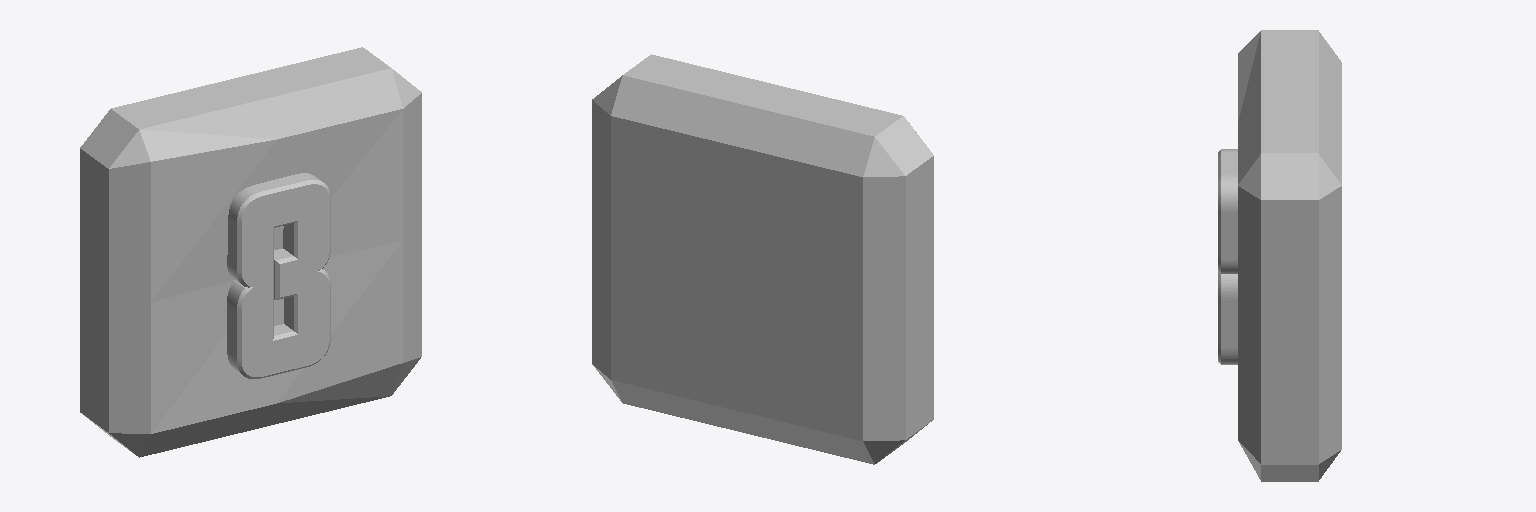
Rendered from Lvl-8.obj.
The picture shows the model from 3 angles: view 1: azimuth 30°, elevation 25°; view 2: azimuth 150°, elevation 25°; view 3: azimuth 270°, elevation 25°; orthographic projection.
Parts seen in each view (by area): view 1: lvl-8_Cube.008; view 2: lvl-8_Cube.008; view 3: lvl-8_Cube.008.
Part boxes in pixels (x1,y1,x2,y2): lvl-8_Cube.008: (80, 47, 421, 457); lvl-8_Cube.008: (592, 54, 933, 464); lvl-8_Cube.008: (1218, 30, 1341, 481).
Size of the model in its own units: 1.28 by 1.28 by 0.4393.